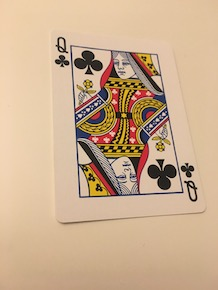QueenOfClubs: (47, 26, 208, 223)
